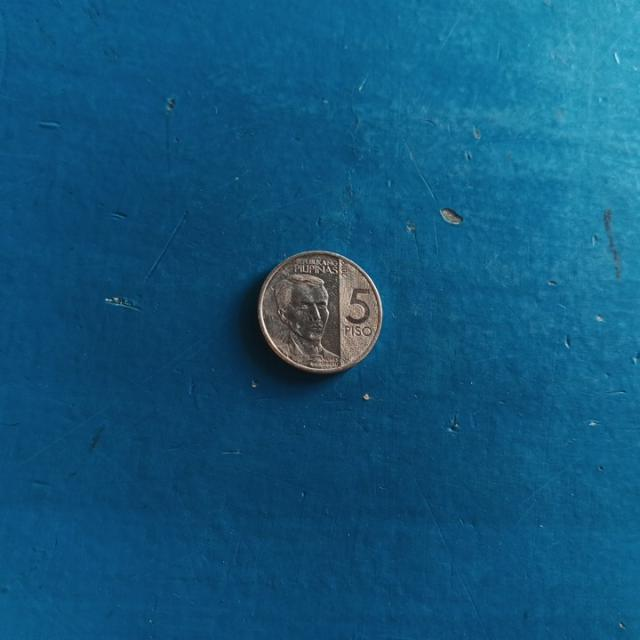5 peso: (248, 240, 396, 381)
